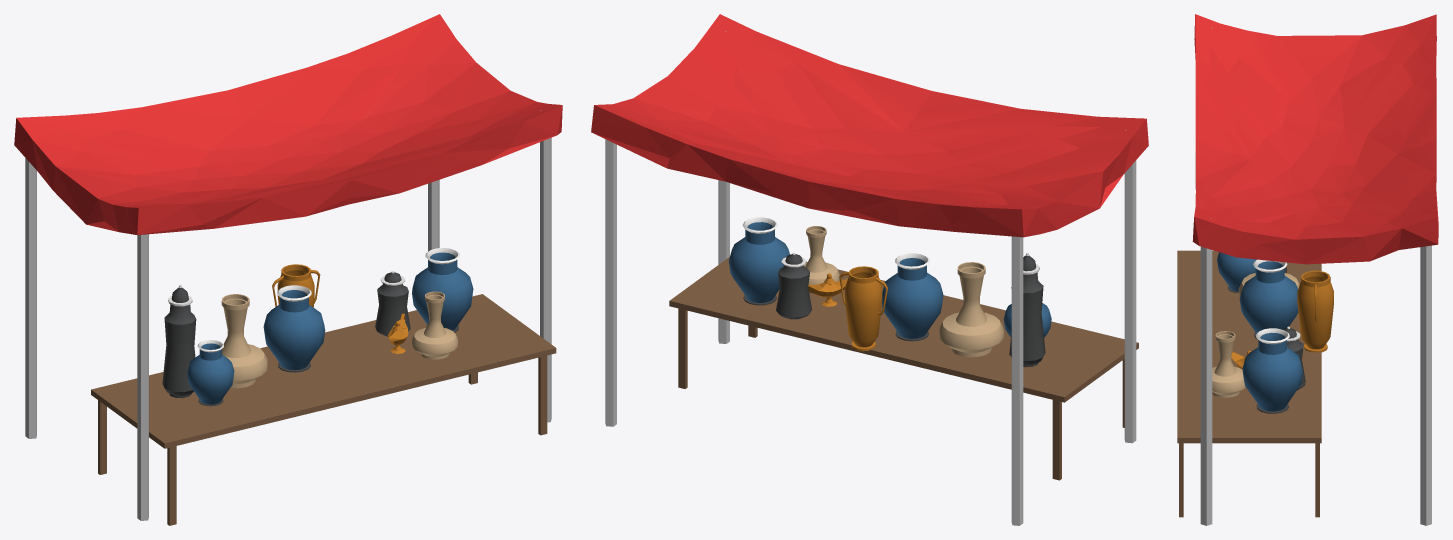
The model's file is SM_marketstand_01.fbx.
3 views of the same model, side by side, from view 1: azimuth 30°, elevation 25°; view 2: azimuth 150°, elevation 25°; view 3: azimuth 270°, elevation 25° (orthographic). The views are drawn at different scales.
Parts seen in each view (by area): view 1: Object120; view 2: Object120; view 3: Object120.
Part boxes in pixels (x1,y1,x2,y2): Object120: (14, 14, 562, 525); Object120: (591, 14, 1148, 525); Object120: (1177, 14, 1438, 525).
Bounding box in the file's own units: 159 × 85.65 × 113.
